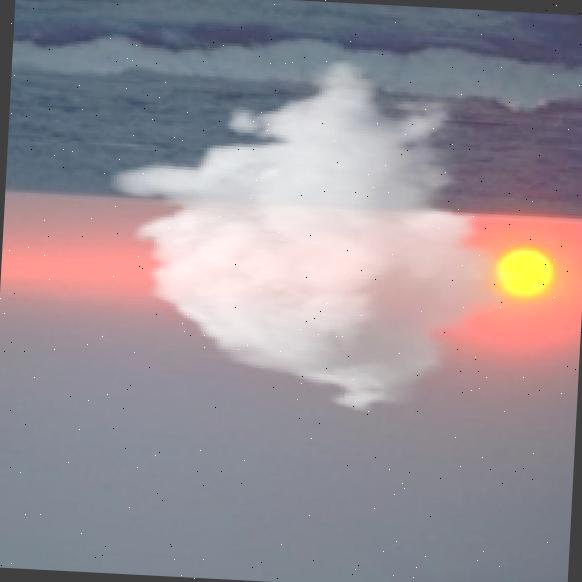smoke: (94, 45, 532, 421)
